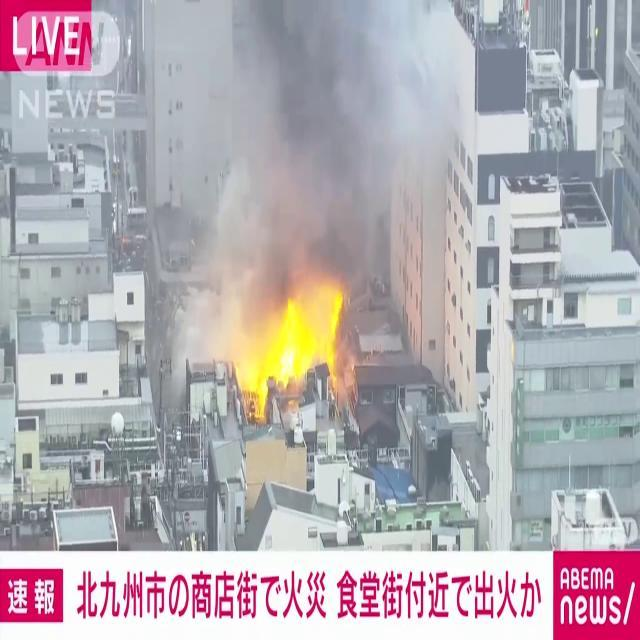Fire: (232, 274, 356, 412)
Smoke: (161, 2, 441, 314)
